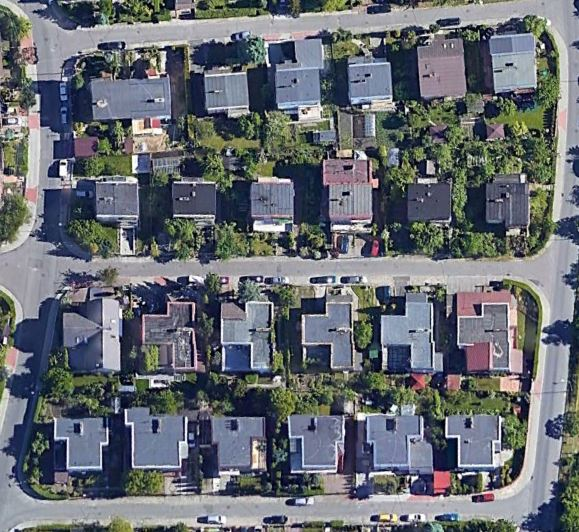family house: (448, 285, 526, 377), (61, 283, 127, 377), (318, 151, 381, 239), (377, 299, 438, 382), (216, 294, 278, 374), (120, 404, 191, 473), (297, 295, 358, 374), (270, 36, 329, 117), (137, 299, 197, 374), (284, 412, 348, 477), (442, 410, 505, 476), (361, 410, 428, 472), (481, 168, 538, 237), (412, 37, 471, 102), (486, 29, 543, 95), (207, 413, 268, 472), (51, 415, 110, 473), (89, 175, 145, 231), (246, 173, 299, 232), (345, 54, 394, 108), (404, 179, 457, 228), (200, 69, 251, 116), (168, 179, 218, 224)
terrace house: (84, 71, 173, 137)
